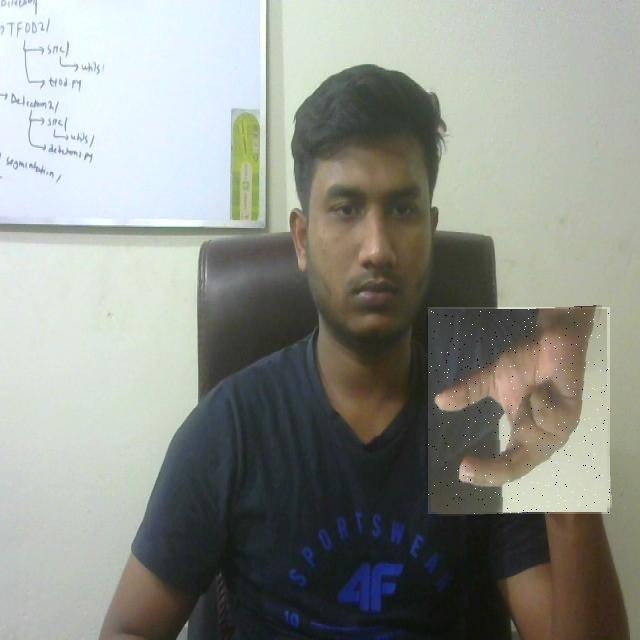No: (428, 307, 610, 514)
